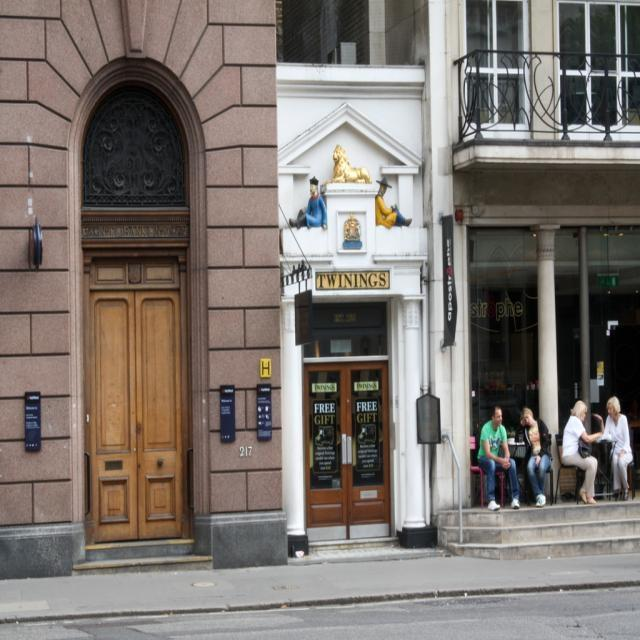door: (76, 240, 196, 548), (300, 302, 399, 546)
